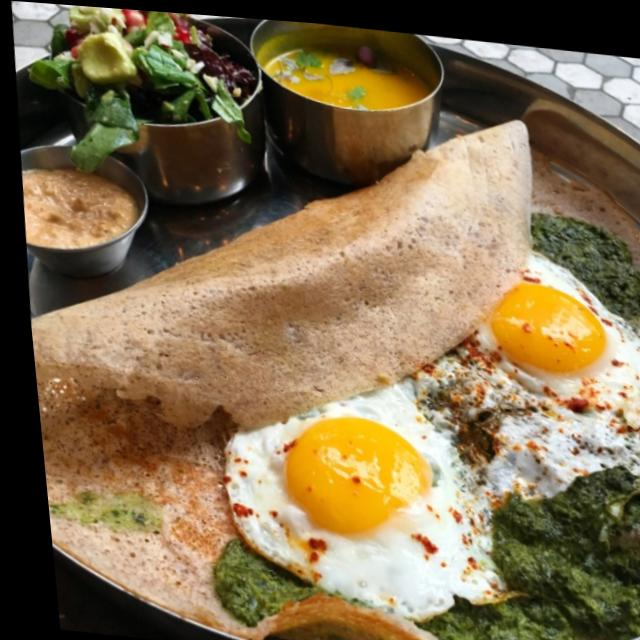DOSA: (31, 121, 532, 640)
EGG: (225, 276, 640, 622)
RED CHUTNEY: (21, 160, 147, 255)
SAMBAR: (251, 20, 442, 111)
VEGGIES: (68, 6, 245, 115)
